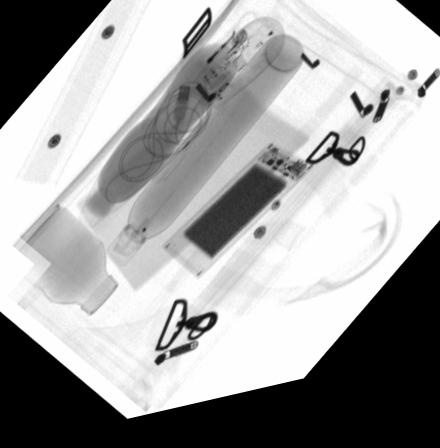Lighter: (166, 33, 251, 116)
Powerbank: (160, 153, 310, 288)
Sprayer: (105, 46, 304, 273)
